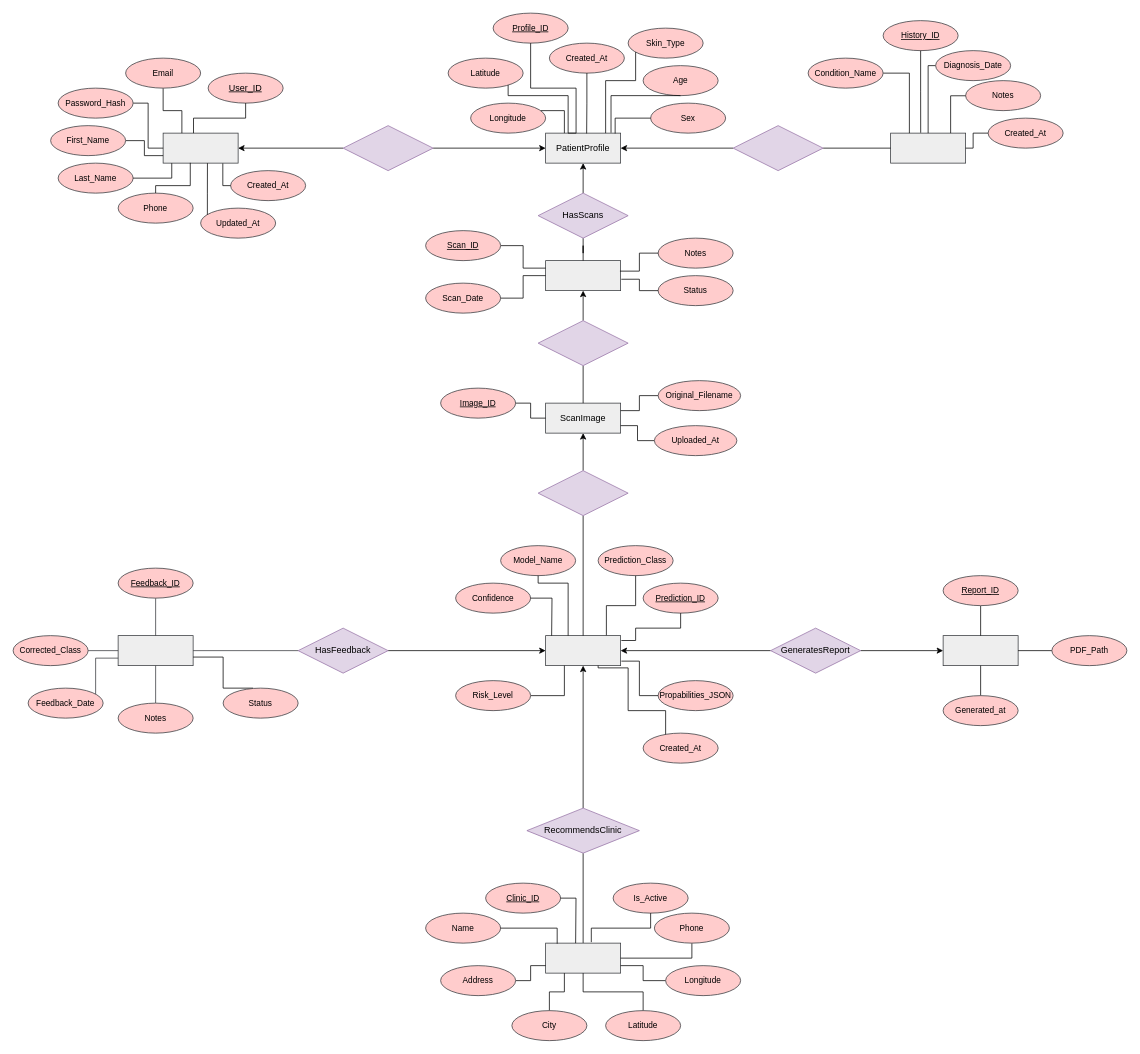
This 1140x1054 diagram has some shape labels left out. The centre of each missing label's shape, as x and y in pixels:
"Clinic" goes at (x=583, y=957).
"ContainsImage" goes at (x=582, y=343).
"Feedback" goes at (x=155, y=650).
"HasHistory" goes at (x=777, y=148).
"HasPrediction" goes at (x=582, y=493).
"HasProfile" goes at (x=387, y=148).
"PatientHistory" goes at (x=928, y=147).
"Prediction" goes at (x=583, y=650).
"Report" goes at (x=980, y=650).
"Scan" goes at (x=583, y=275).
"User" goes at (x=200, y=147).
